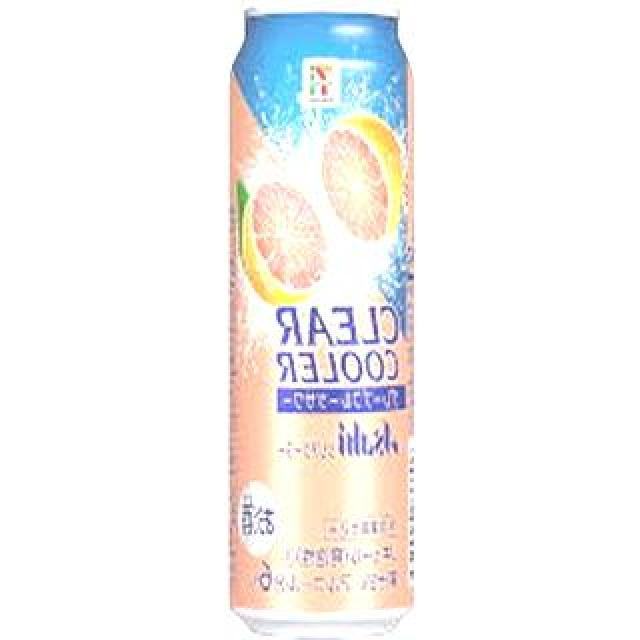Can: (208, 0, 420, 632)
